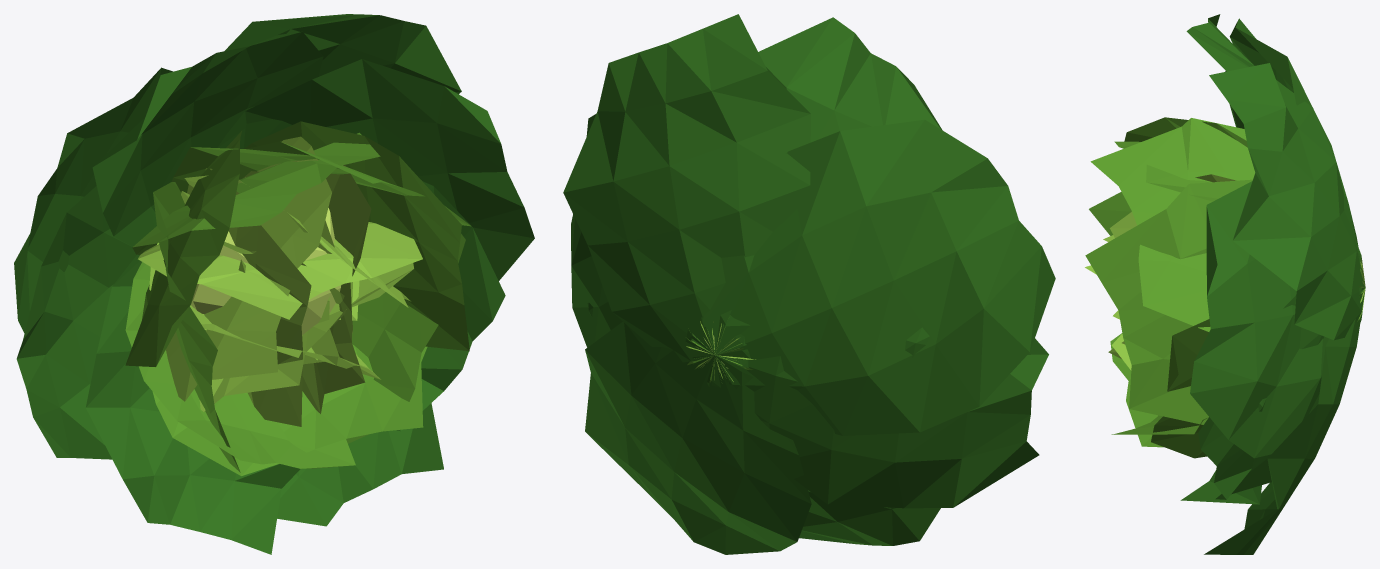
Rendered from lettuce_01.obj.
3 renders of one model, left to right at view 1: azimuth 30°, elevation 25°; view 2: azimuth 150°, elevation 25°; view 3: azimuth 270°, elevation 25°, orthographic. The views are drawn at different scales.
Parts seen in each view (by area): view 1: lettuce_01; view 2: lettuce_01; view 3: lettuce_01.
Part boxes in pixels (left/top/right/bottom): lettuce_01: left=14, top=14, right=534, bottom=554; lettuce_01: left=563, top=14, right=1055, bottom=554; lettuce_01: left=1085, top=14, right=1365, bottom=554.
Size of the model in its own units: 0.2739 by 0.2777 by 0.1448.
